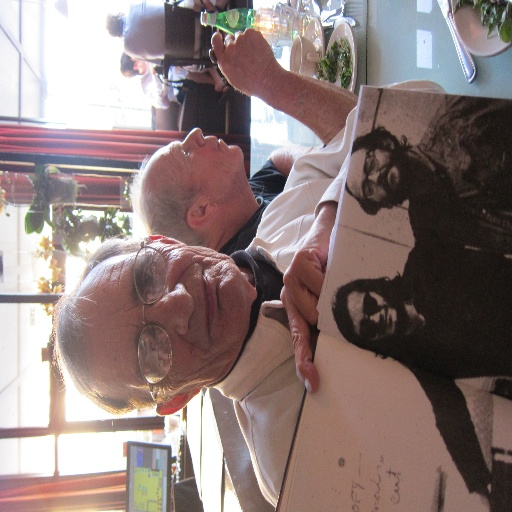hand: (276, 246, 329, 395), (208, 23, 276, 98), (477, 476, 498, 509)
